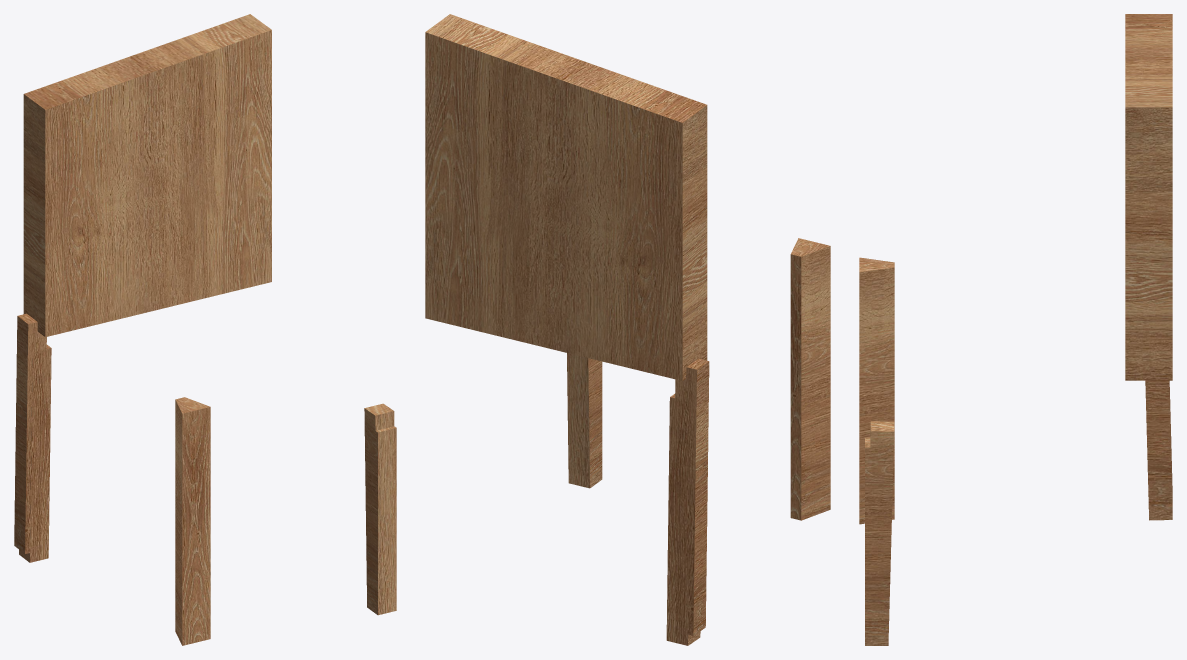
The model's file is 42402_deepcad.glb.
3 views of the same model, side by side, from view 1: azimuth 30°, elevation 25°; view 2: azimuth 150°, elevation 25°; view 3: azimuth 270°, elevation 25° (orthographic). The views are drawn at different scales.
Parts seen in each view (by area): view 1: test_cmd_42402_pred; view 2: test_cmd_42402_pred; view 3: test_cmd_42402_pred.
Part boxes in pixels (bbox=[...]): test_cmd_42402_pred: bbox=[14, 14, 396, 645]; test_cmd_42402_pred: bbox=[425, 14, 830, 645]; test_cmd_42402_pred: bbox=[859, 14, 1172, 645].
Size of the model in its own units: 0.51 by 1 by 0.53.
1 material, 1 textured.
